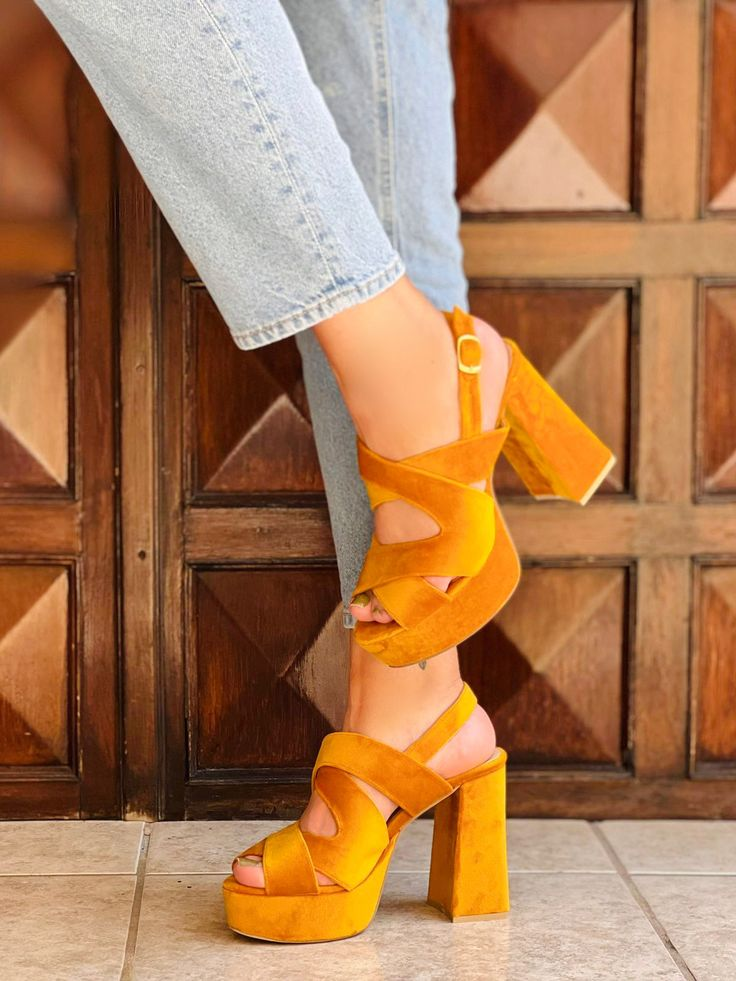gamuza: (224, 305, 618, 943)
